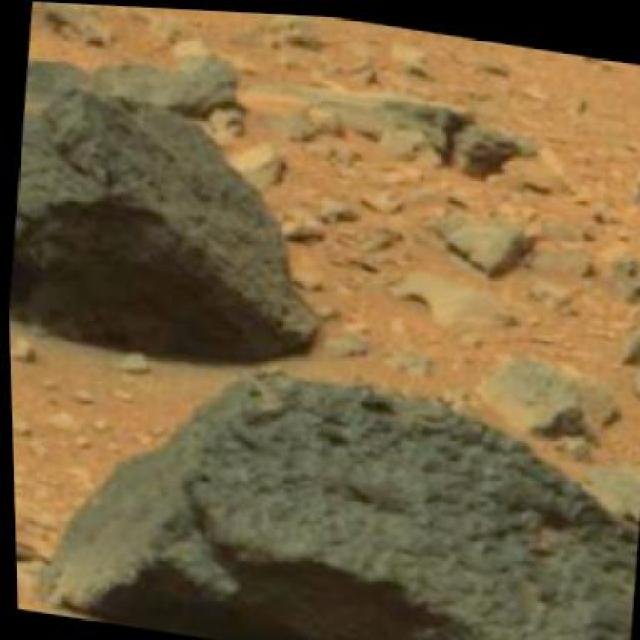rock: (20, 324, 638, 638), (1, 48, 354, 388), (468, 339, 630, 443), (424, 190, 548, 278), (81, 3, 342, 35), (576, 444, 638, 562)
